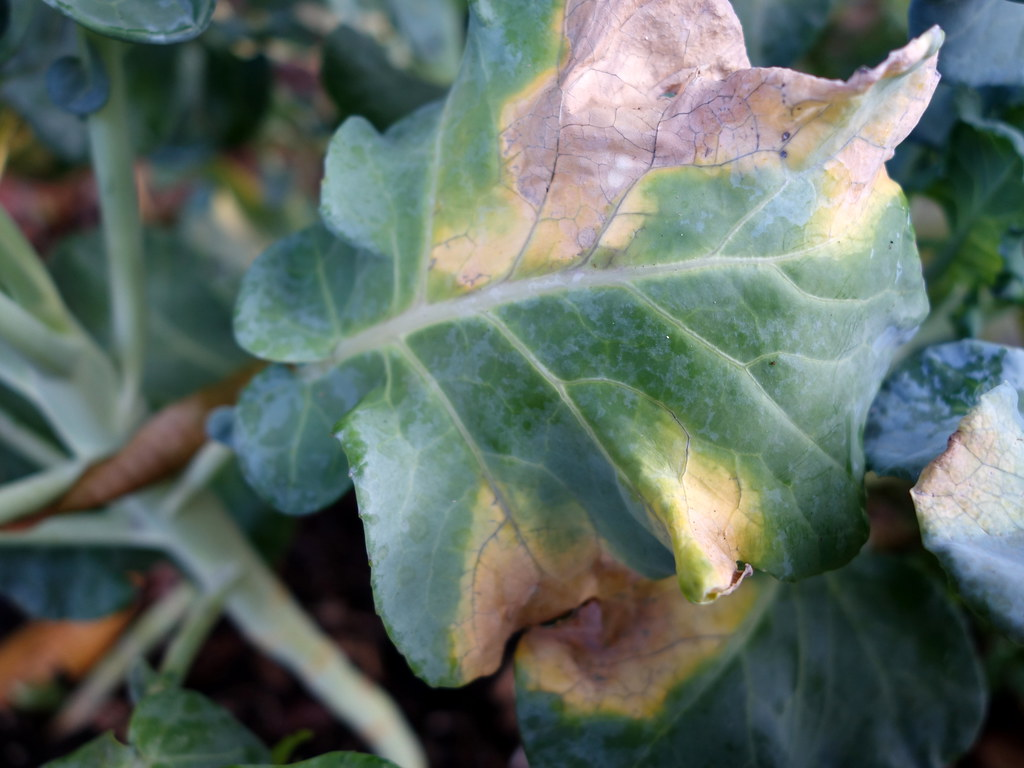Cabbage_BlackRotXantomonas: (317, 18, 890, 610)
